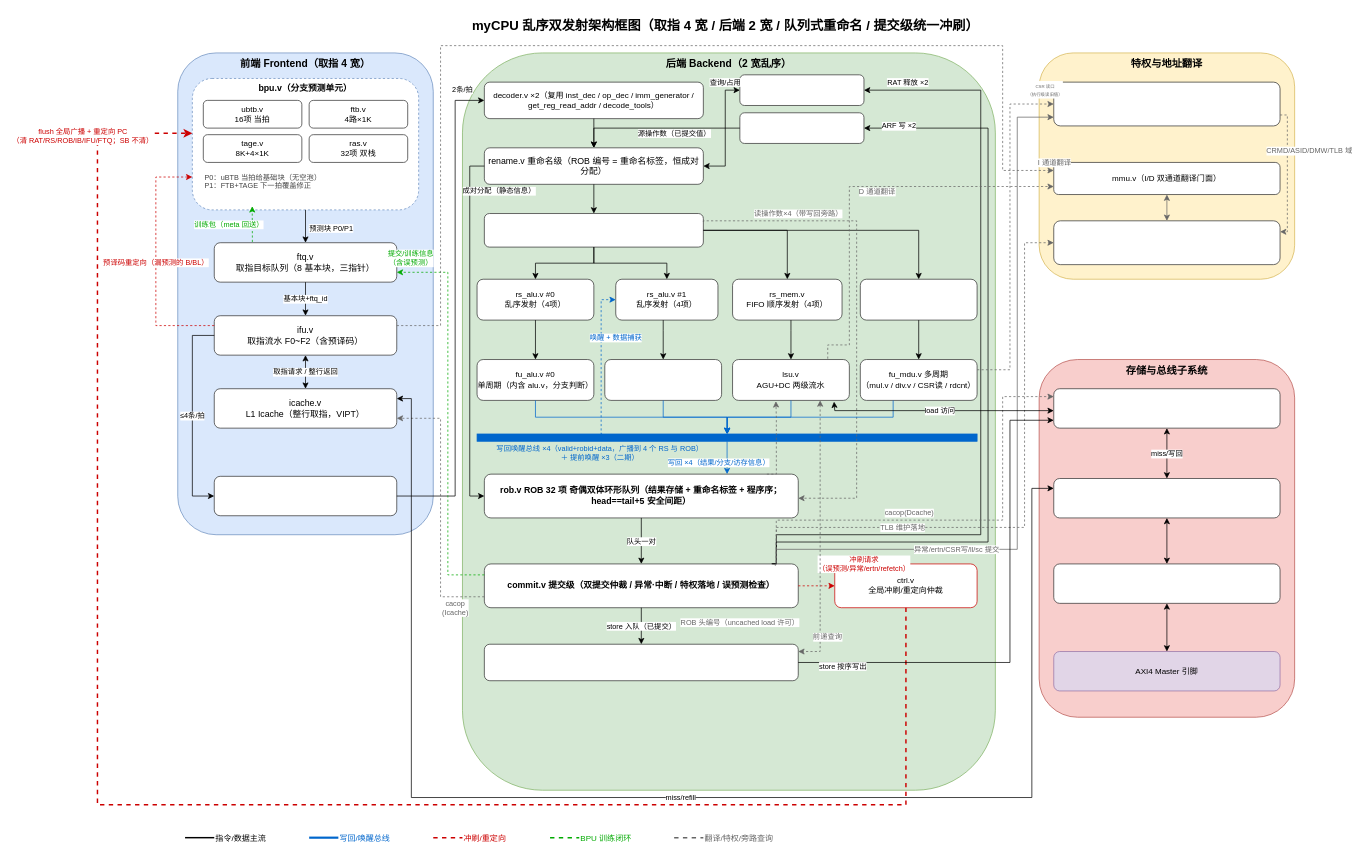
Some shapes in this 1365 by 858 pixel diagram are drawn without their labels. The centre of each missing label's shape, as x and y in pixels:
axi_line_bridge.v（cache 行 ↔ 32bit AXI burst）: [1166,583]
csr_exception_commit_handler.v （内含 exception_Decoder.v）: [1166,103]
dcache.v L1 Dcache（load / store 双口，写回法）: [1166,408]
dispatch.v 分发（读 ROB 补操作数 / ALU 负载均衡）: [593,230]
fu_alu.v #1 单周期: [663,379]
inst_buffer.v 指令缓冲（16 项，4 进 2 出）: [305,496]
l2cache.v L2 统一缓存（I$/D$ 共享）: [1166,498]
rat.v RAT 32×{busy,robid}: [801,89]
regfile.v ARF 4读2写（仅存已提交值）: [801,127]
rs_mdu.v FIFO 顺序发射（2项）: [918,299]
store_buffer.v（8 项，提交后按序写出；load 前递查询口；冲刷不清空！）: [641,662]
tlb_manager.v（内含 tlb.v 32项 双查询口） l1_tlb.v = 二期加速插件: [1166,242]
